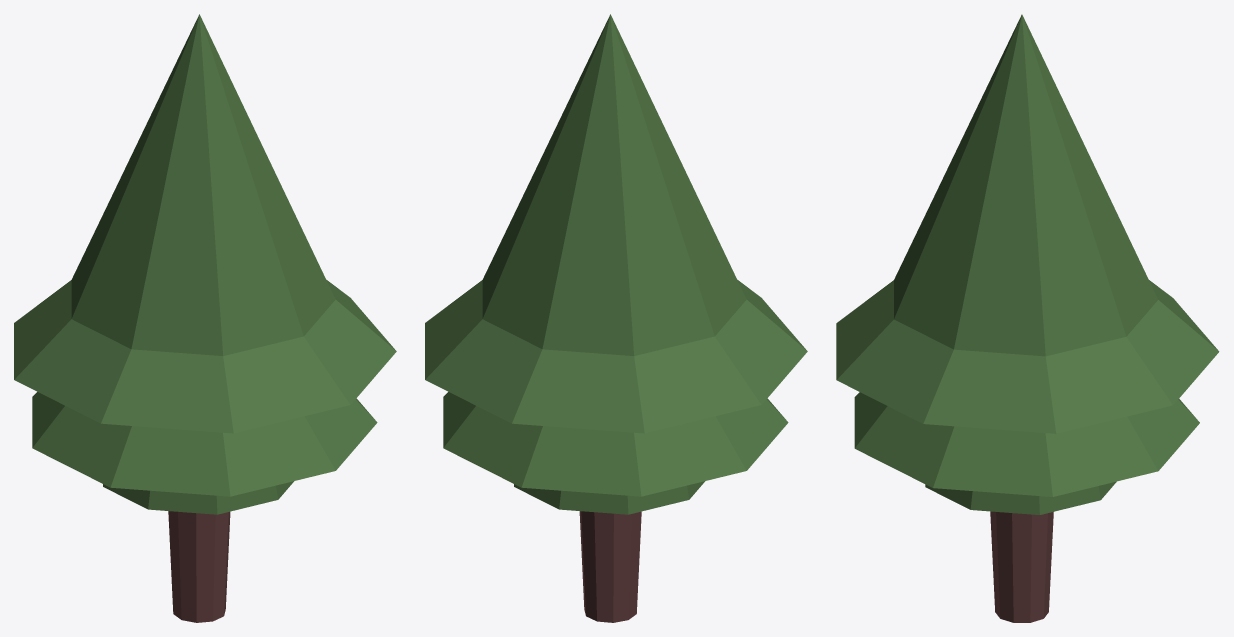
Rendered from cone_Tree_new.fbx.
The picture shows the model from 3 angles, left to right: view 1: azimuth 30°, elevation 25°; view 2: azimuth 150°, elevation 25°; view 3: azimuth 270°, elevation 25°; orthographic projection.
Parts seen in each view (by area): view 1: Sphere.010, Cylinder.004; view 2: Sphere.010, Cylinder.004; view 3: Sphere.010, Cylinder.004.
Boxes of the visible parts, <box> form: Sphere.010: <box>14,14,396,514</box>; Cylinder.004: <box>168,511,230,622</box>; Sphere.010: <box>425,14,807,514</box>; Cylinder.004: <box>579,511,641,622</box>; Sphere.010: <box>836,14,1219,514</box>; Cylinder.004: <box>990,511,1053,622</box>.
Bounding box in the file's own units: 269 × 456 × 265.
